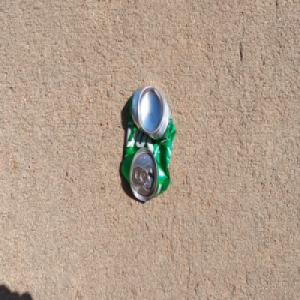SodaCan: (120, 83, 176, 203)
